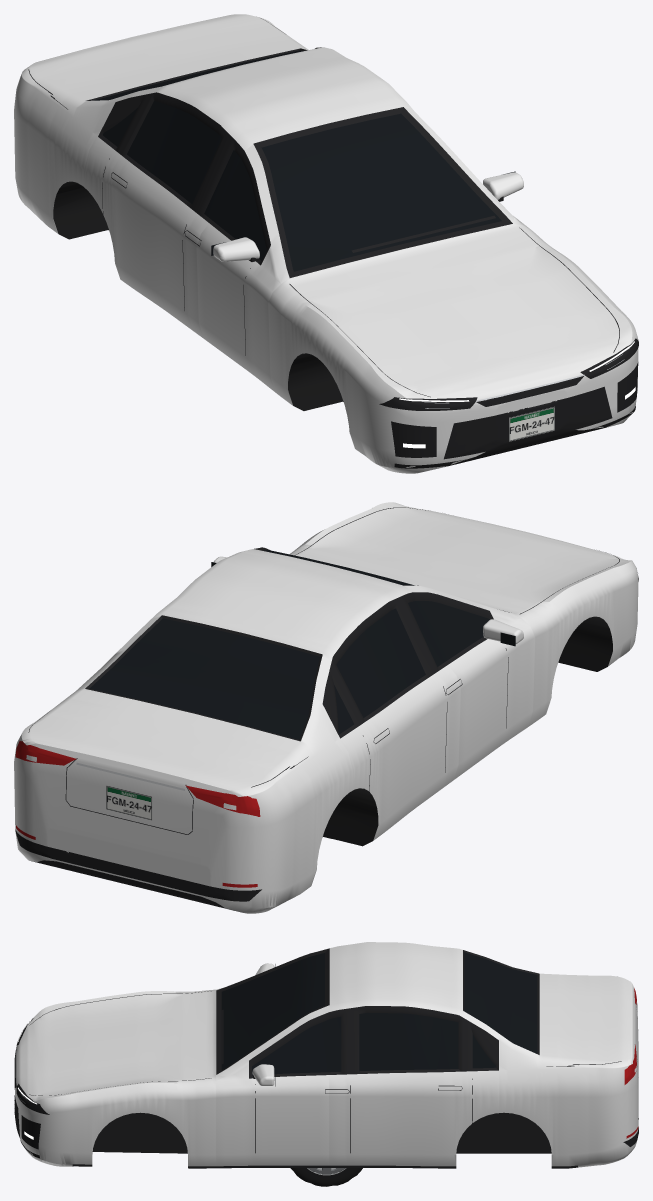
The model's file is toyota-corolla.glb.
3 views of the same model, one above another, from view 1: azimuth 30°, elevation 25°; view 2: azimuth 150°, elevation 25°; view 3: azimuth 270°, elevation 25° (orthographic). The views are drawn at different scales.
Visible parts, largest first — view 1: body; view 2: body; view 3: body, wheel.
Part boxes in pixels (left/top/right/bottom): body: left=14, top=14, right=638, bottom=473; body: left=14, top=502, right=638, bottom=913; body: left=14, top=942, right=638, bottom=1168; wheel: left=290, top=1168, right=362, bottom=1186.
Size of the model in its own units: 2.02 by 1.75 by 4.63.
1 material, 1 textured.
